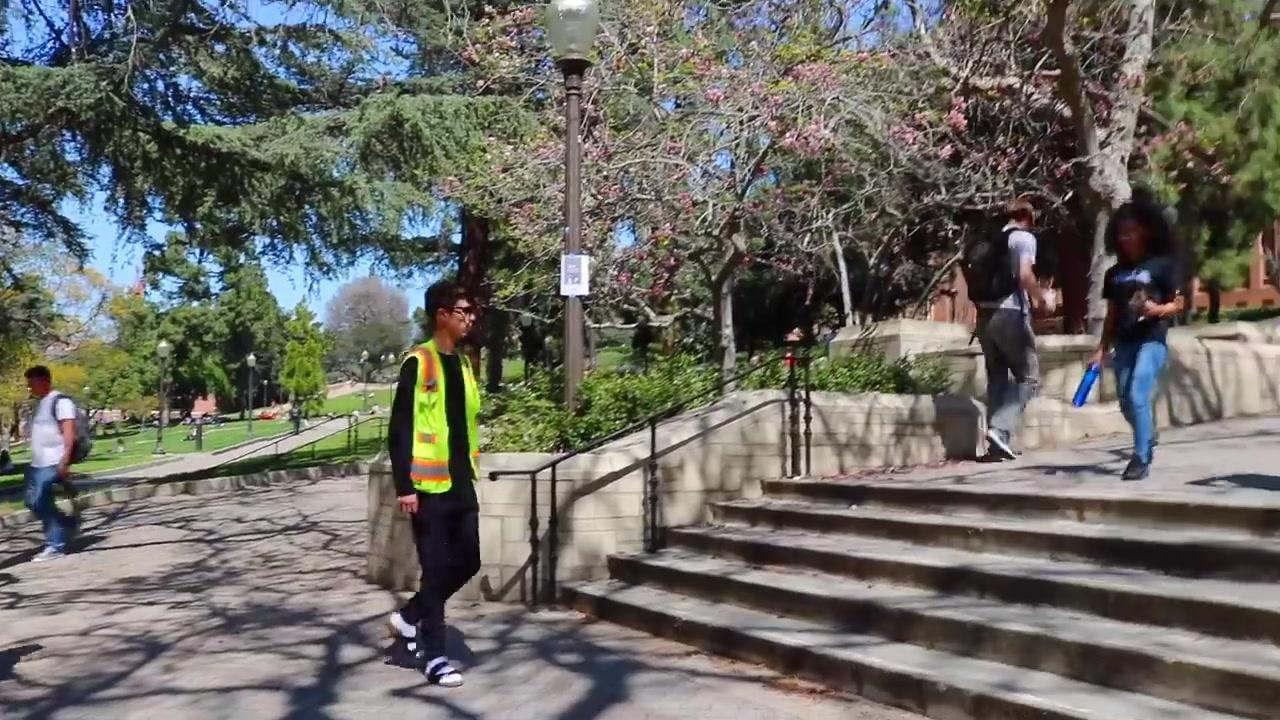vest: (397, 338, 482, 495)
